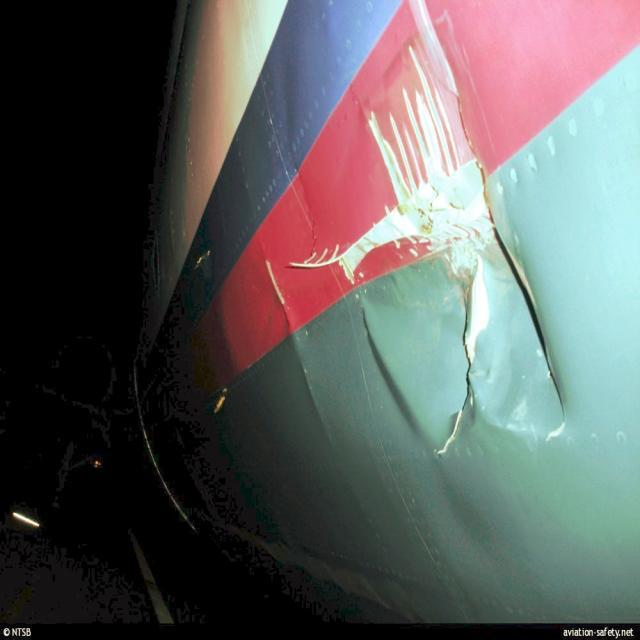crack: (432, 255, 491, 459)
